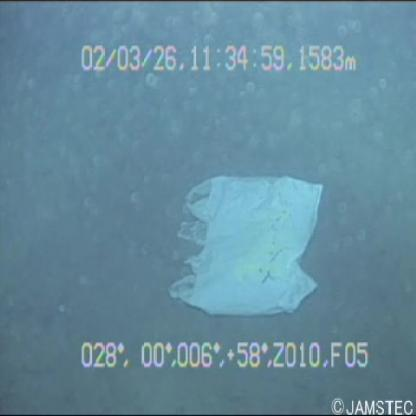Rác: (160, 144, 323, 330)
